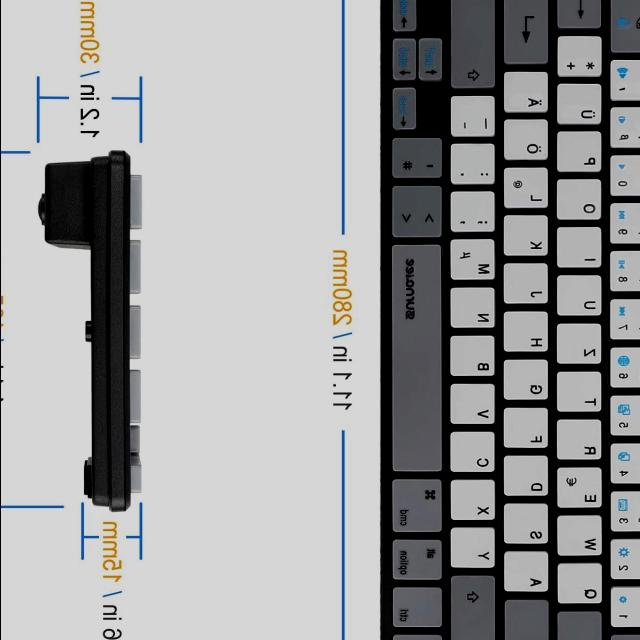0: (610, 155, 640, 201)
1: (610, 587, 640, 631)
2: (610, 539, 640, 584)
3: (610, 491, 640, 536)
4: (610, 444, 640, 488)
5: (609, 396, 640, 440)
6: (609, 347, 640, 393)
7: (609, 299, 640, 344)
8: (609, 252, 640, 296)
9: (609, 204, 640, 249)
a: (504, 553, 552, 596)
accent: (610, 60, 640, 105)
ae: (504, 73, 552, 117)
alt-left: (392, 538, 446, 583)
b: (451, 337, 499, 381)
c: (451, 433, 499, 477)
comma: (451, 193, 499, 237)
d: (504, 457, 552, 501)
del: (610, 0, 640, 57), (558, 0, 605, 32)
e: (556, 468, 605, 512)
enter: (504, 1, 552, 69)
f: (504, 409, 552, 453)
g: (504, 361, 552, 405)
h: (504, 312, 552, 356)
hash: (392, 138, 446, 182)
i: (557, 228, 605, 272)
j: (504, 265, 552, 308)
k: (504, 216, 552, 260)
keyboard: (378, 0, 640, 640), (35, 151, 146, 515)
l: (504, 168, 552, 212)
less: (391, 186, 445, 242)
m: (451, 240, 499, 284)
minus: (452, 97, 498, 142)
n: (451, 289, 499, 333)
o: (557, 181, 605, 225)
oe: (504, 121, 552, 165)
p: (558, 133, 606, 177)
plus: (558, 38, 606, 82)
point: (451, 144, 499, 188)
q: (558, 564, 606, 608)
r: (557, 420, 605, 464)
s: (504, 505, 552, 549)
shift-left: (452, 574, 500, 640)
shift-lock: (505, 601, 553, 640)
shift-right: (451, 1, 499, 93)
space: (391, 245, 447, 476)
ss: (610, 108, 640, 153)
strg-left: (392, 586, 446, 631)
t: (557, 372, 605, 416)
tab: (558, 613, 607, 640)
u: (557, 277, 605, 321)
ue: (558, 84, 606, 130)
v: (451, 385, 499, 429)
w: (557, 517, 606, 561)
x: (451, 481, 499, 525)
y: (451, 528, 499, 572)
z: (557, 324, 605, 368)
